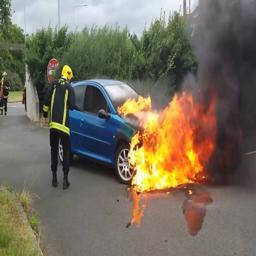fire: (129, 90, 218, 191), (117, 95, 152, 116)
